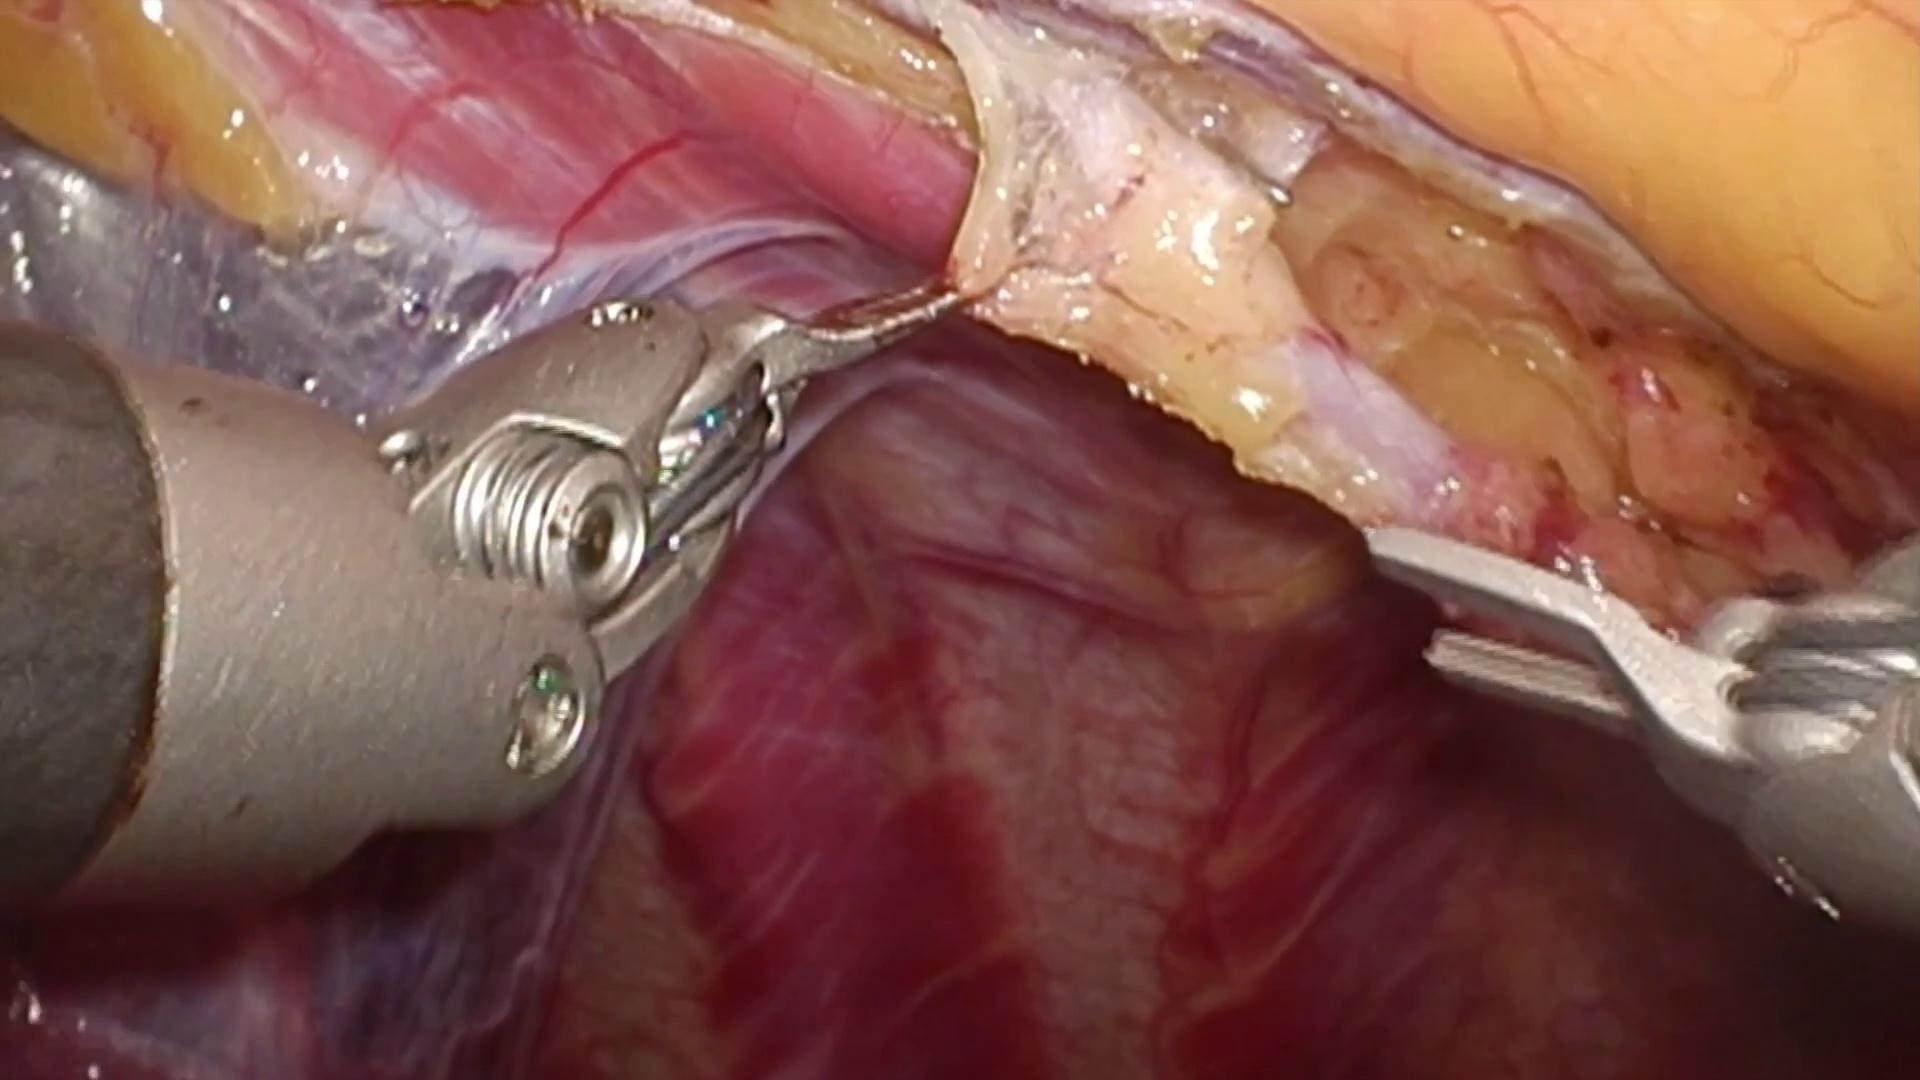Debakey: (704, 265, 1006, 409)
clipper: (1367, 522, 1920, 919)
